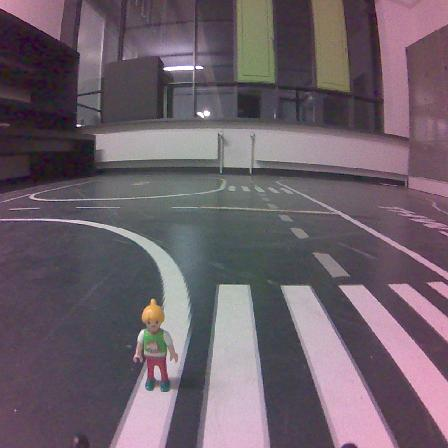CHILD: (133, 299, 177, 391)
